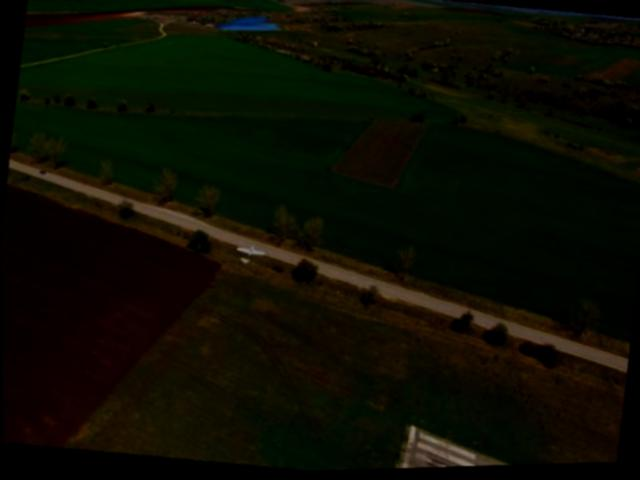uav: (229, 239, 271, 277)
